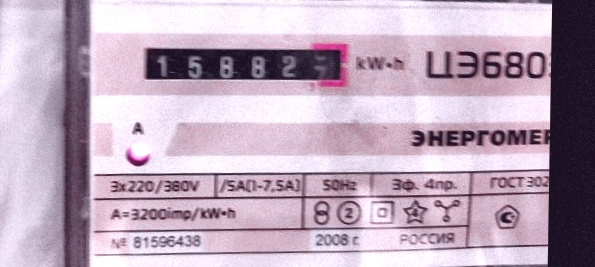1: (154, 53, 169, 78)
2: (281, 52, 297, 79)
5: (185, 54, 202, 79)
7: (311, 63, 326, 79)
8: (216, 54, 234, 79), (249, 53, 265, 78)
screen: (130, 33, 357, 97)
